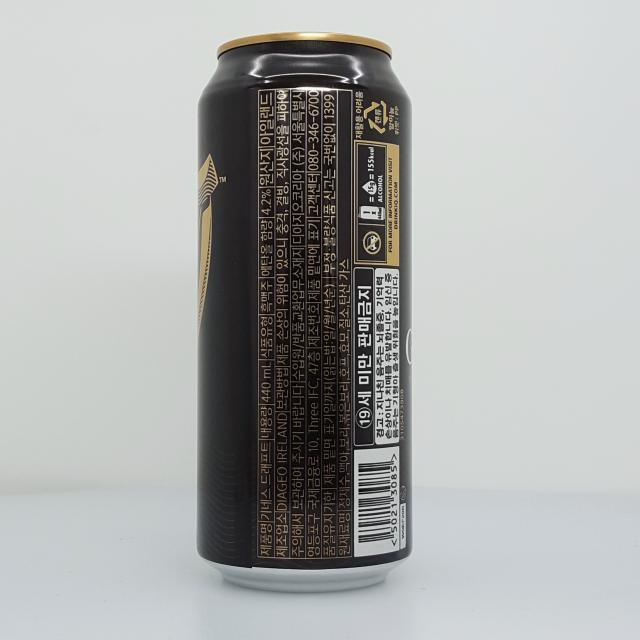metal-can: (196, 32, 413, 593)
